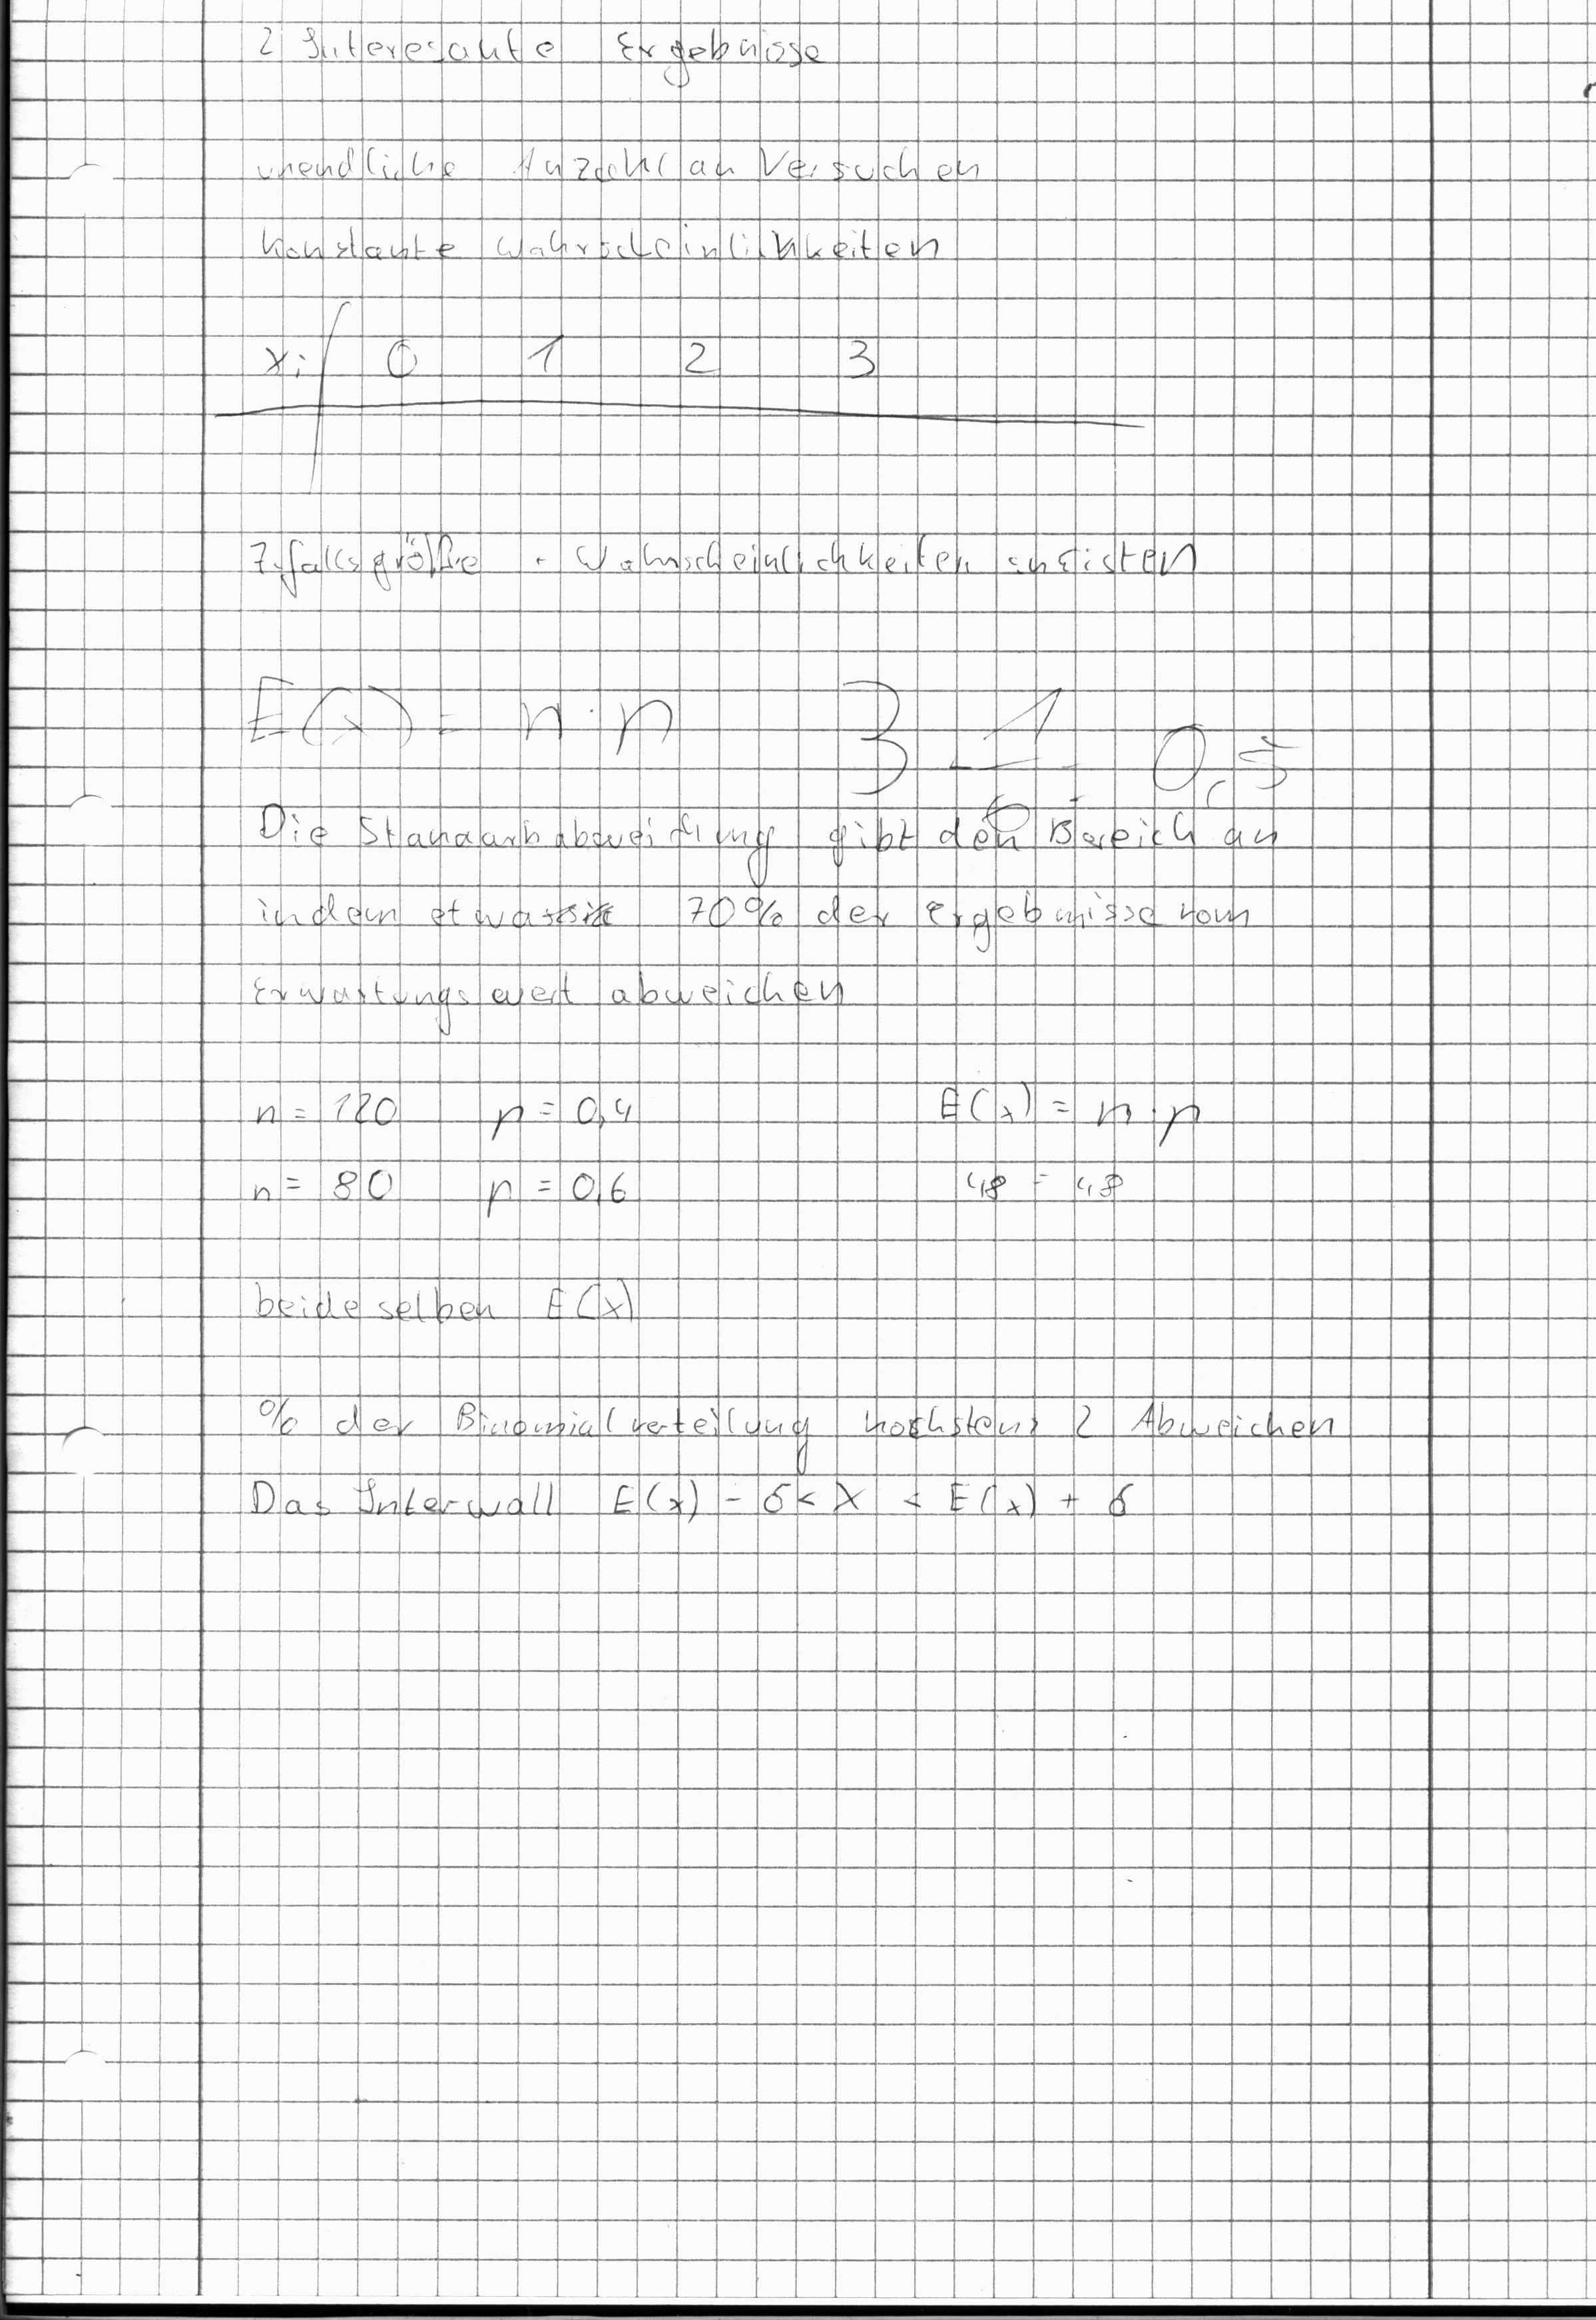word: (241, 793, 1284, 1028), (234, 1378, 1348, 1536), (248, 127, 988, 280), (236, 513, 1209, 608), (248, 8, 825, 102), (929, 1066, 1220, 1217), (233, 1247, 656, 1349), (471, 1065, 659, 1233), (228, 1065, 411, 1215)
